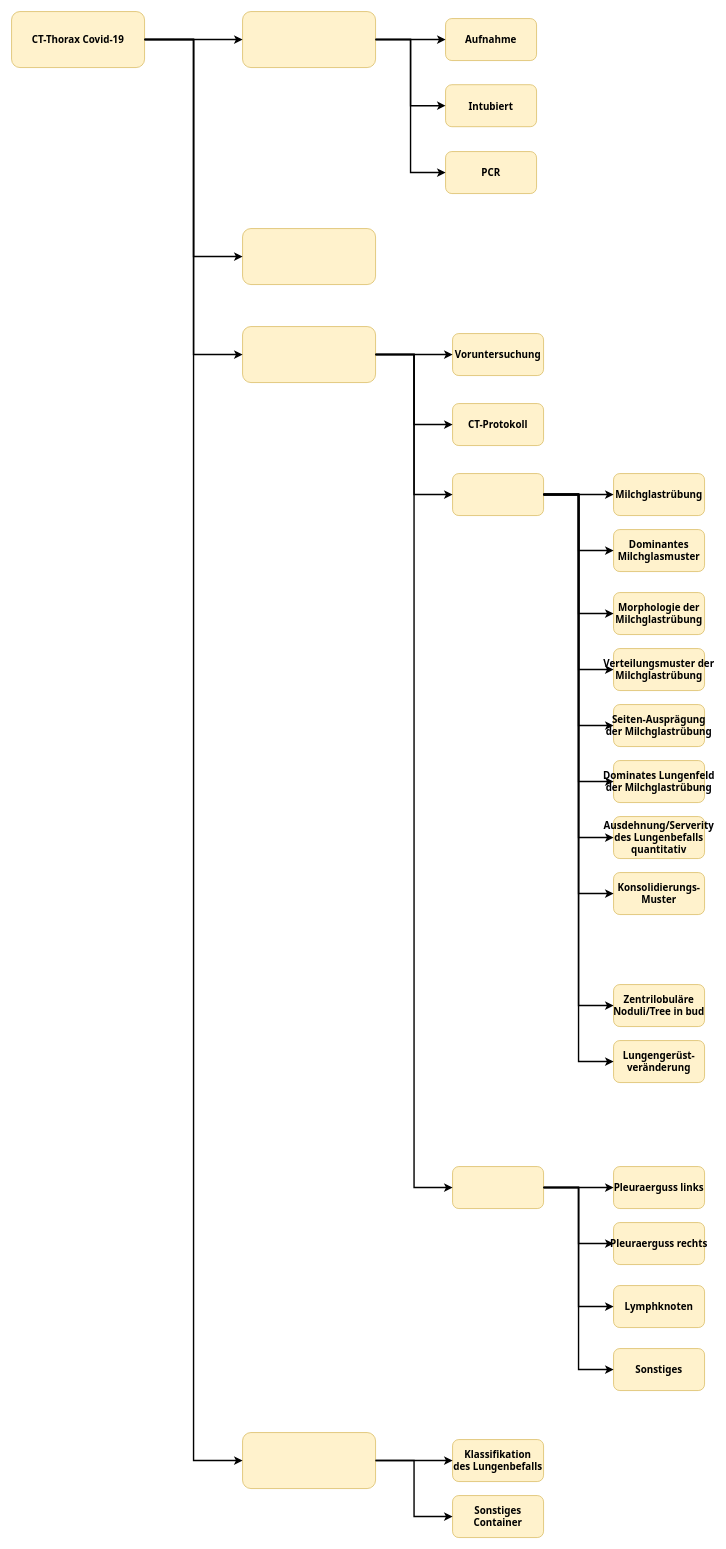
This 726x1549 diagram has some shape labels left out. The shapes that lost their labels are listed below. From the top down, each one's centre as x and y in pixels, then its label:
At pixel 309 39: "klinische Angaben".
At pixel 309 256: "Fagenstellung".
At pixel 309 354: "Befund".
At pixel 498 494: "Lungenparanchym/ Atemwege".
At pixel 498 1187: "Weitere Befunde".
At pixel 309 1460: "Beurteilung".
